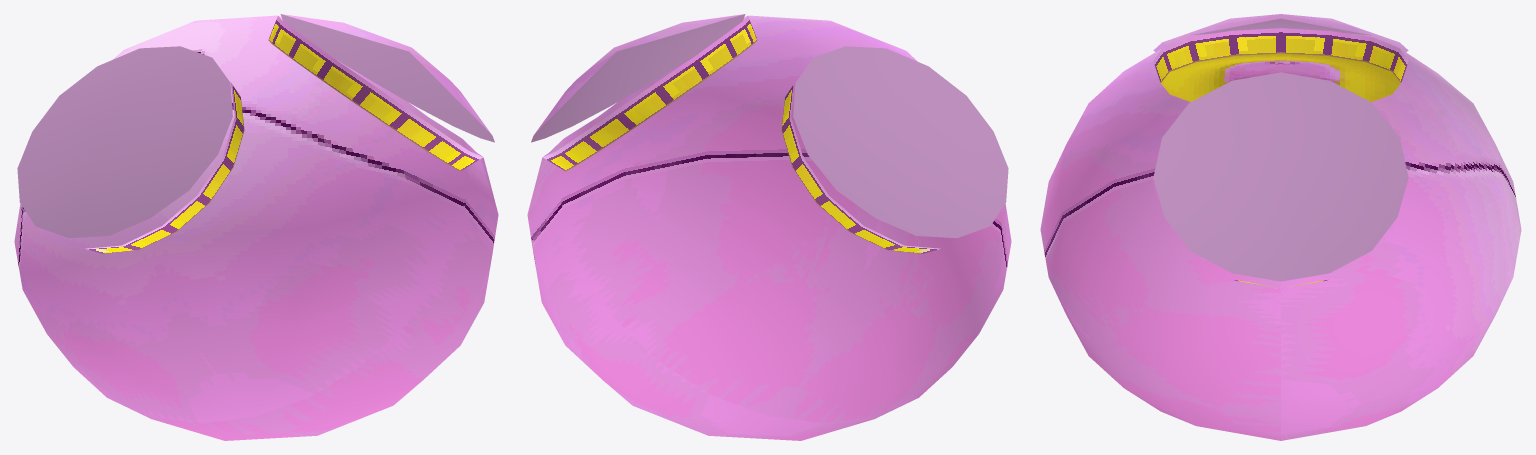
The model's file is ps2_save-icons_mobilesuitgundamseed.glb.
3 renders of one model, left to right at view 1: azimuth 30°, elevation 25°; view 2: azimuth 150°, elevation 25°; view 3: azimuth 270°, elevation 25°, orthographic.
Visible parts, largest first — view 1: seed.ico; view 2: seed.ico; view 3: seed.ico.
Boxes of the visible parts, <box> form: seed.ico: <box>14,14,498,440</box>; seed.ico: <box>527,14,1011,440</box>; seed.ico: <box>1040,14,1521,440</box>.
Bounding box in the file's own units: 2.09 × 1.7 × 2.
1 material, 1 textured.
